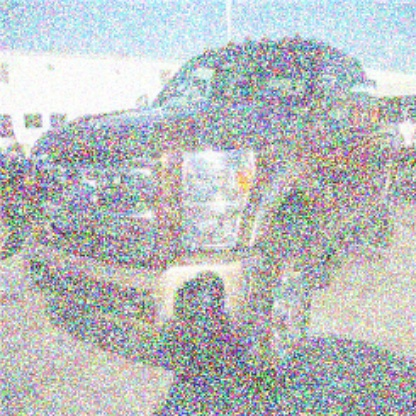Vehicle: (29, 38, 403, 385)
